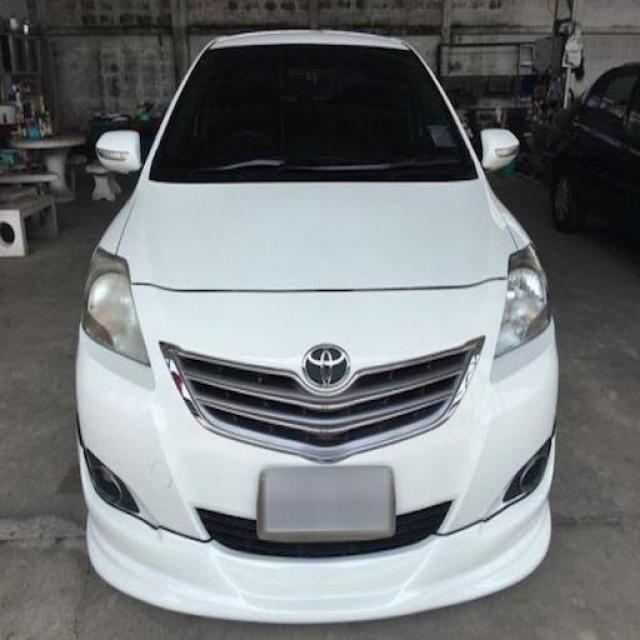front_bumper: (76, 276, 559, 624)
front_glass: (149, 44, 477, 184)
front_left_light: (495, 243, 551, 360)
front_right_light: (82, 246, 151, 366)
hood: (116, 175, 517, 291)
left_mirror: (476, 126, 520, 175)
right_mirror: (94, 130, 143, 177)
